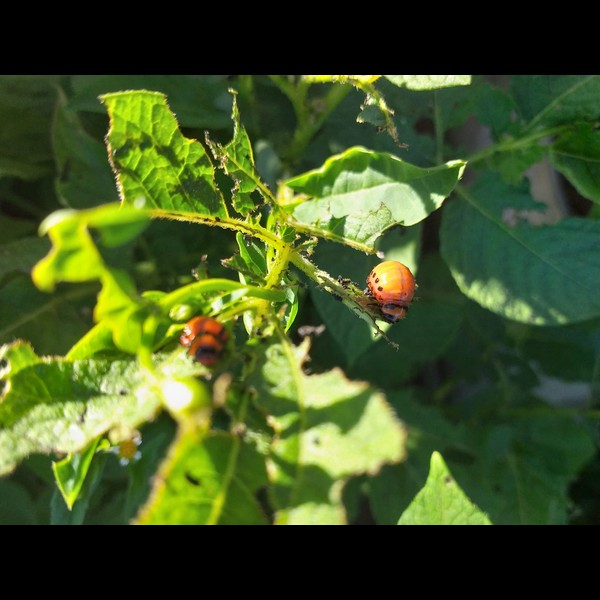hrosc: (364, 258, 418, 326), (180, 317, 229, 371)
